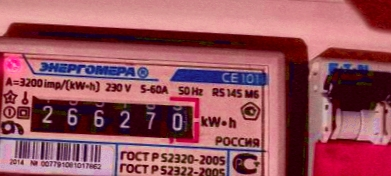0: (170, 109, 184, 130)
2: (39, 102, 55, 123), (117, 107, 132, 127)
6: (65, 103, 79, 125), (92, 106, 106, 127)
7: (143, 108, 156, 128)
screen: (20, 83, 207, 147)
